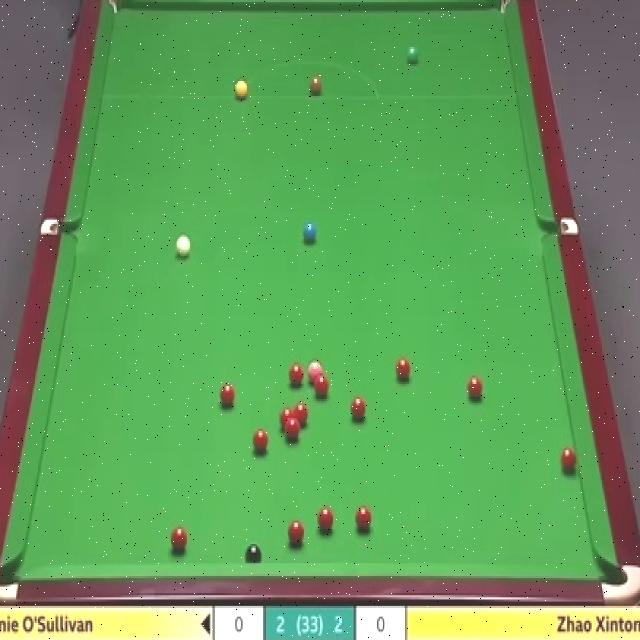black-ball: (245, 544, 262, 564)
blue-ball: (301, 218, 317, 245)
brown-ball: (309, 76, 322, 95)
green-ball: (403, 45, 420, 66)
pink-ball: (309, 361, 323, 385)
red-ball: (560, 445, 578, 477), (394, 355, 412, 386), (170, 526, 188, 553), (317, 506, 334, 534), (355, 504, 372, 532), (466, 375, 484, 401), (220, 385, 237, 411), (288, 519, 304, 546), (350, 396, 366, 422), (253, 428, 268, 454), (294, 403, 309, 429), (314, 374, 330, 397), (286, 421, 300, 442), (280, 407, 293, 429), (290, 366, 304, 386)
white-ball: (174, 232, 192, 262)
yellow-ball: (234, 78, 248, 99)
